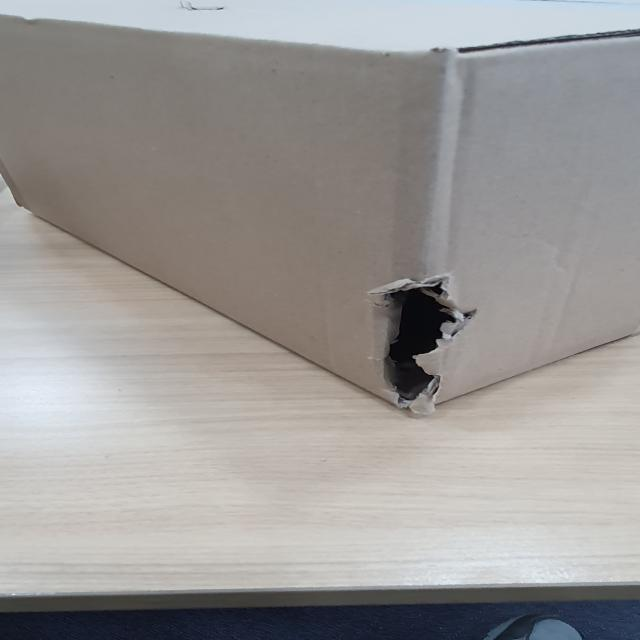hole: (363, 275, 485, 405)
